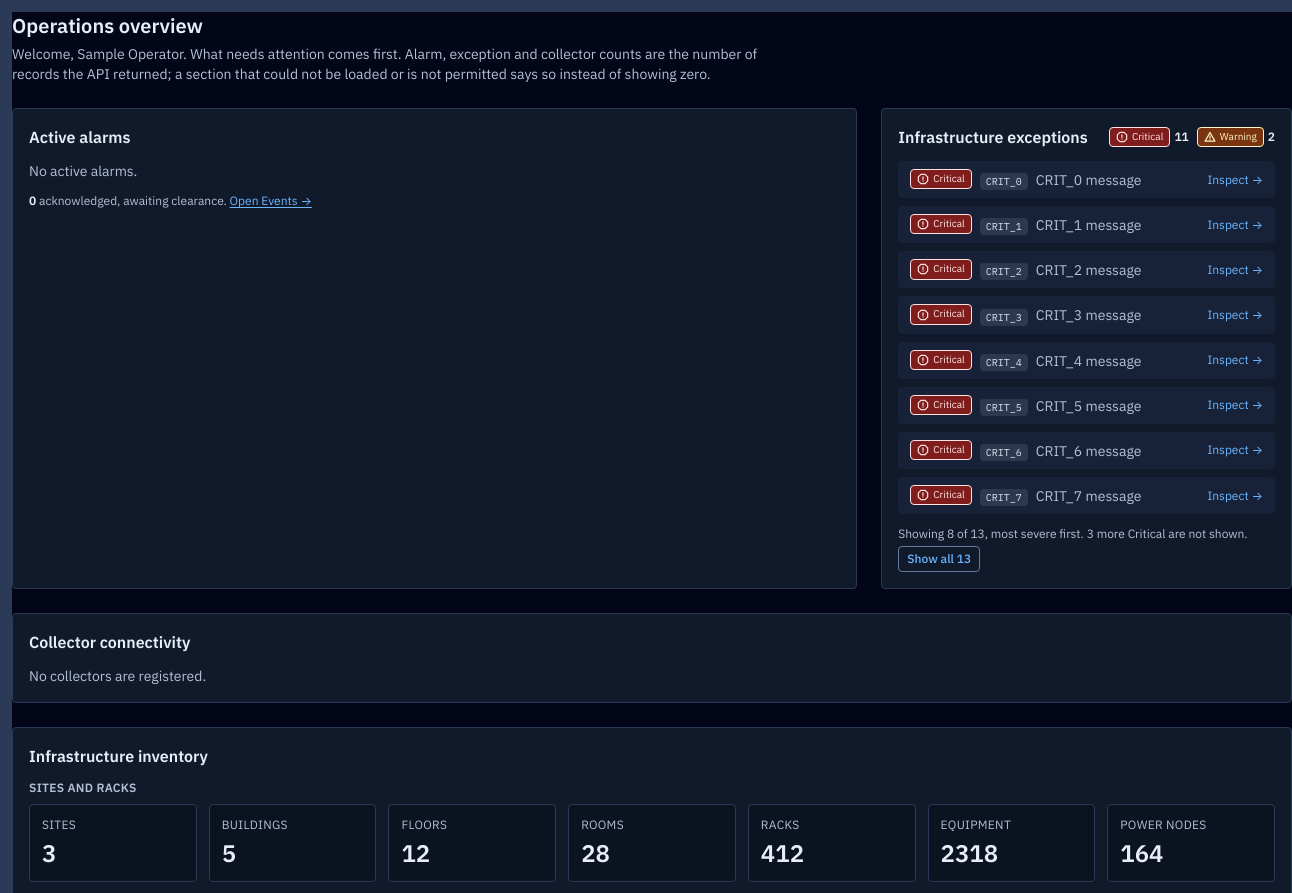
Test case: Exceptions beyond eight stay reachable › with eleven Critical records, shows eight, says three Critical are not shown, and reveals all on request
Expected: the text with test id "exceptions-truncation" reads "Showing 8 of 13, most severe first. 3 more Critical are not shown.", x1=898 y1=526 x2=1248 y2=541
Click the button "Show all 13": (939,559) x1=898 y1=546 x2=980 y2=572
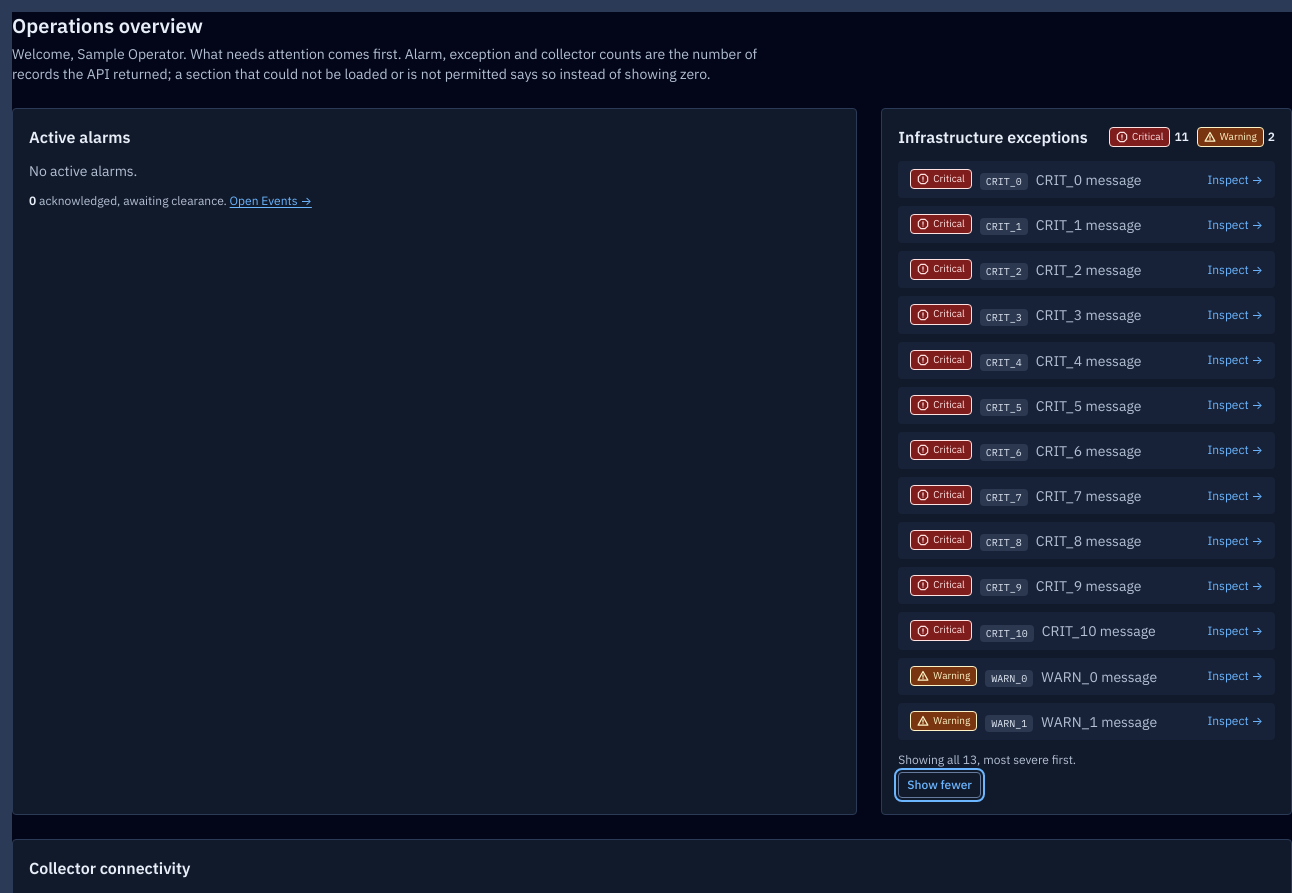
Result: the button named "Show all 13" is expanded at x1=898 y1=772 x2=981 y2=798
Result: the button named "Show all 13" reads "Show fewer" at x1=898 y1=772 x2=981 y2=798
Result: the text with test id "exceptions-truncation" reads "Showing all 13, most severe first." at x1=898 y1=752 x2=1076 y2=767
